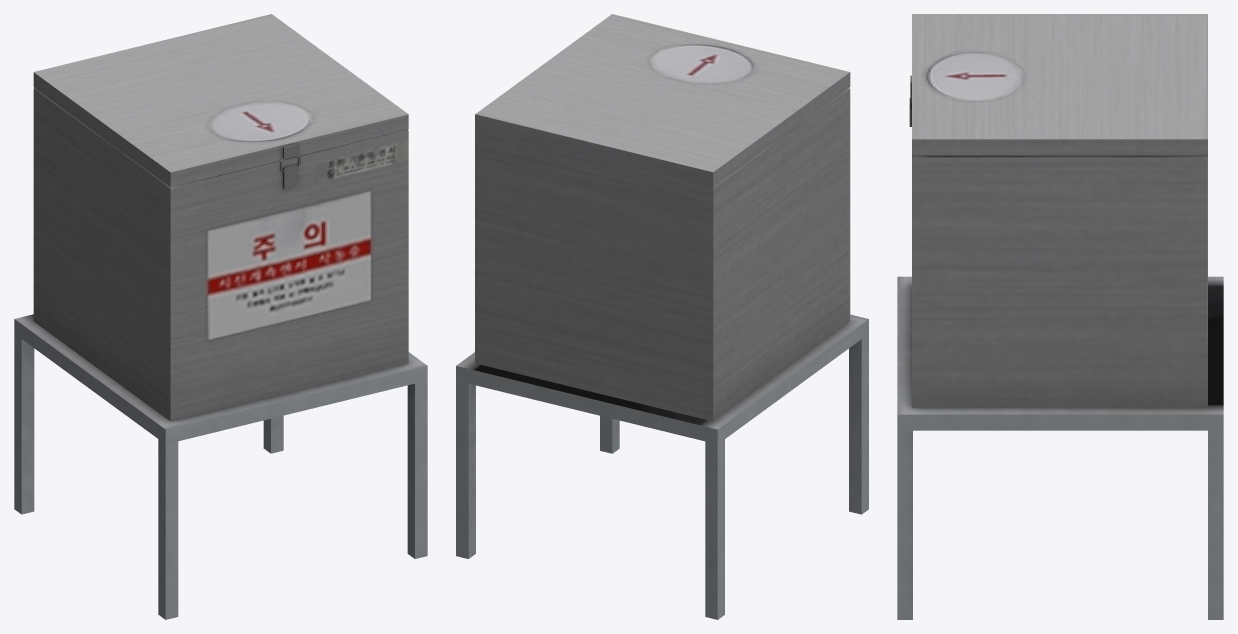
The model's file is seismometerOutside_ET.gltf.
The picture shows the model from 3 angles, left to right: view 1: azimuth 30°, elevation 25°; view 2: azimuth 150°, elevation 25°; view 3: azimuth 270°, elevation 25°; orthographic projection. The views are drawn at different scales.
Parts seen in each view (by area): view 1: seismometerOutside_ET; view 2: seismometerOutside_ET; view 3: seismometerOutside_ET.
Part boxes in pixels (box(x1,y1,x2,y2)): seismometerOutside_ET: box(14, 14, 427, 619); seismometerOutside_ET: box(456, 14, 868, 619); seismometerOutside_ET: box(897, 14, 1223, 619).
Bounding box in the file's own units: 4.4 × 7.06 × 4.4.
1 material, 1 textured.
